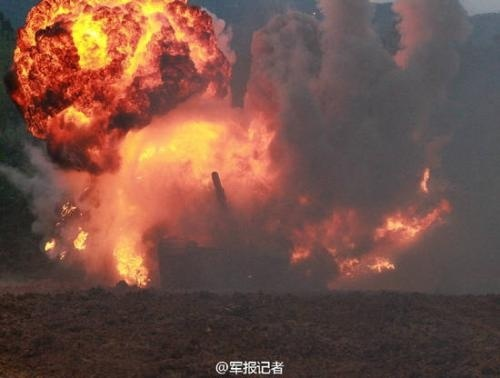fire: (23, 7, 284, 283), (290, 161, 451, 278)
